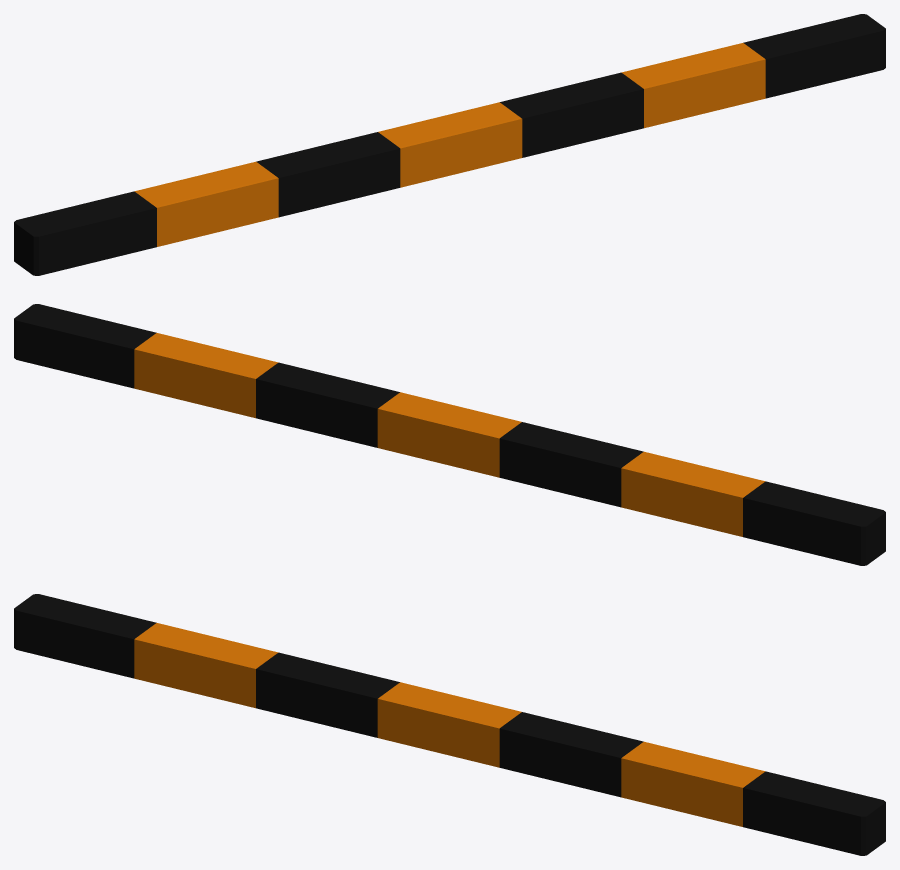
File: Road_Curb_03.fbx
3 renders of one model, top to bottom at view 1: azimuth 30°, elevation 25°; view 2: azimuth 150°, elevation 25°; view 3: azimuth 330°, elevation 25°, orthographic.
Parts seen in each view (by area): view 1: Road_Curb_03; view 2: Road_Curb_03; view 3: Road_Curb_03.
Boxes of the visible parts, x1,y1,x2,y2 form: Road_Curb_03: (14, 14, 885, 275); Road_Curb_03: (14, 304, 885, 565); Road_Curb_03: (14, 594, 885, 855).
Size of the model in its own units: 6.98 by 0.3084 by 0.3213.
